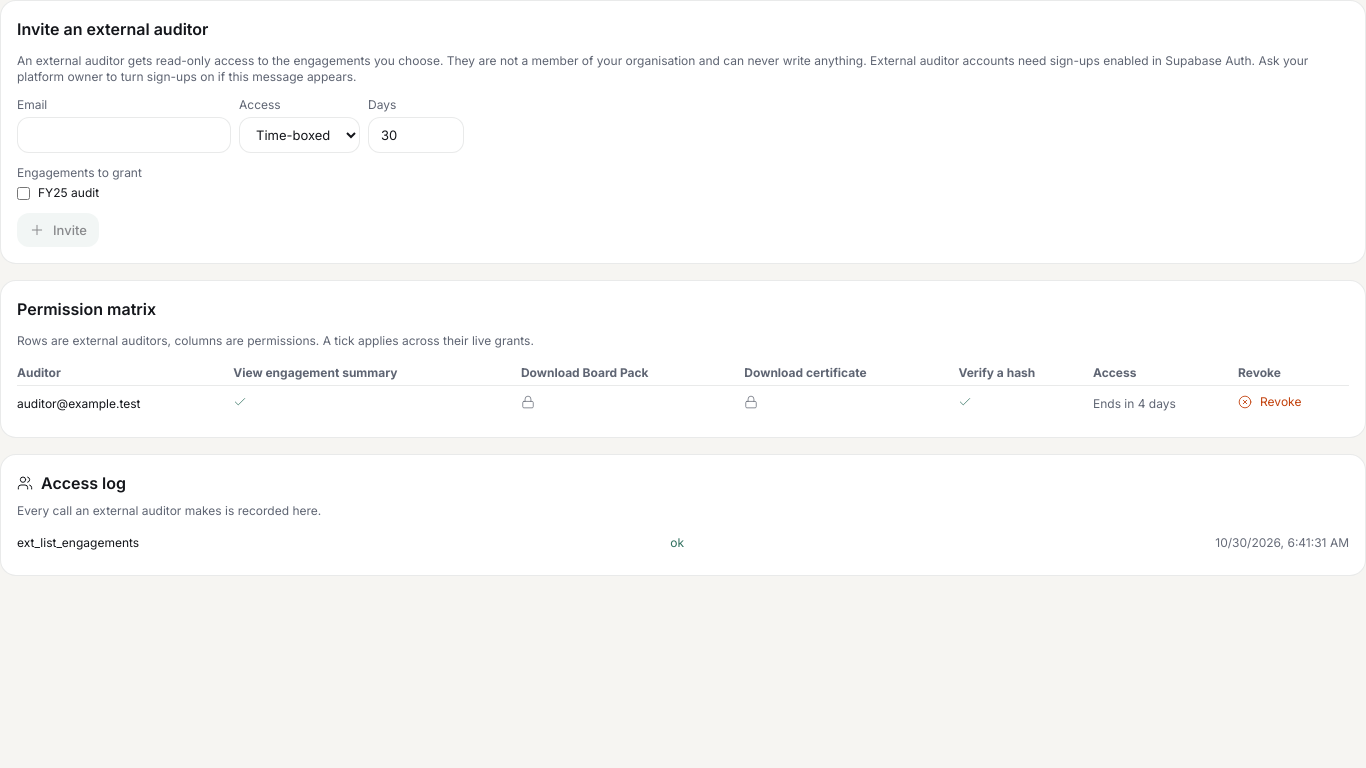
Scenario: OA-14 external auditors (F13) › warns plainly when permanent access is chosen
Select "Permanent" in the dropdown with test id "oa-auditors-expiry-kind": [300, 135] box [239,117,360,153]
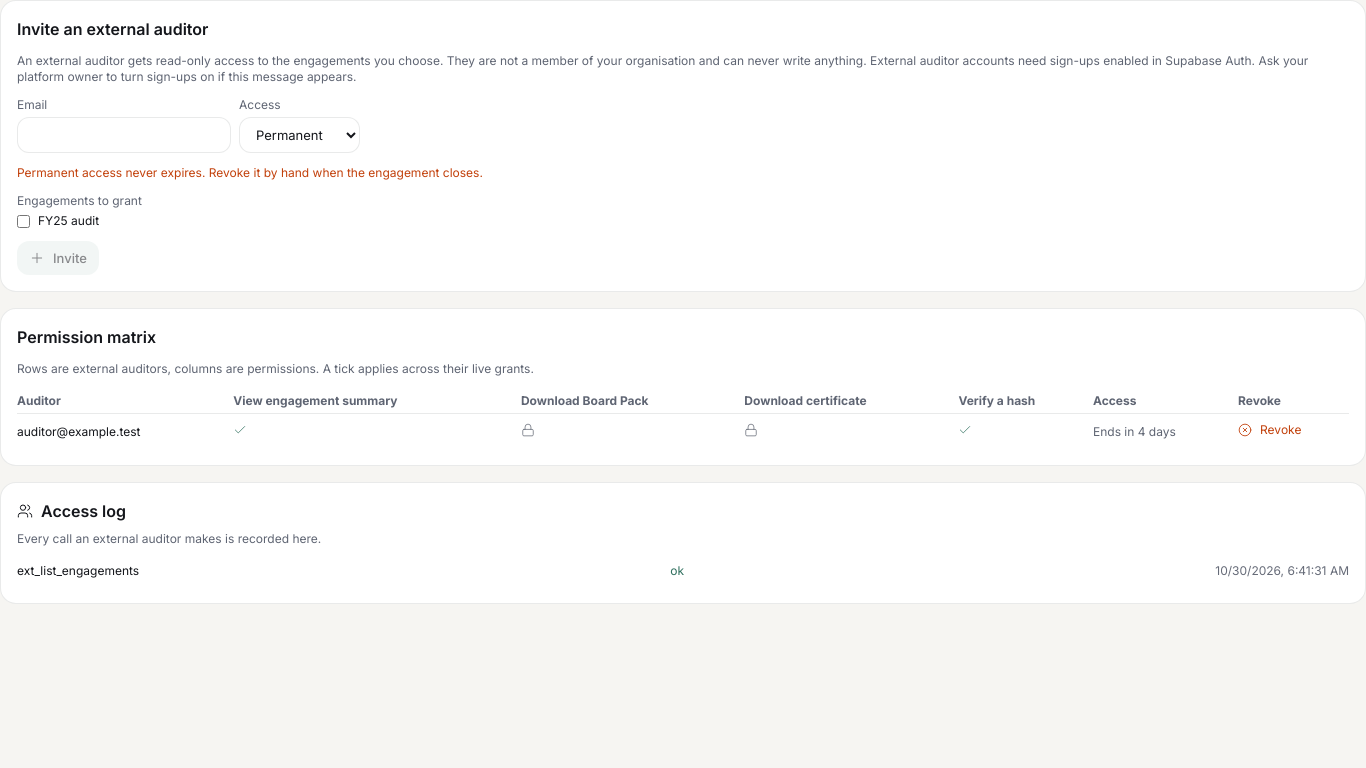
expect the text with test id "oa-auditors-permanent-warning" is shown: met, box [17,165,483,180]
